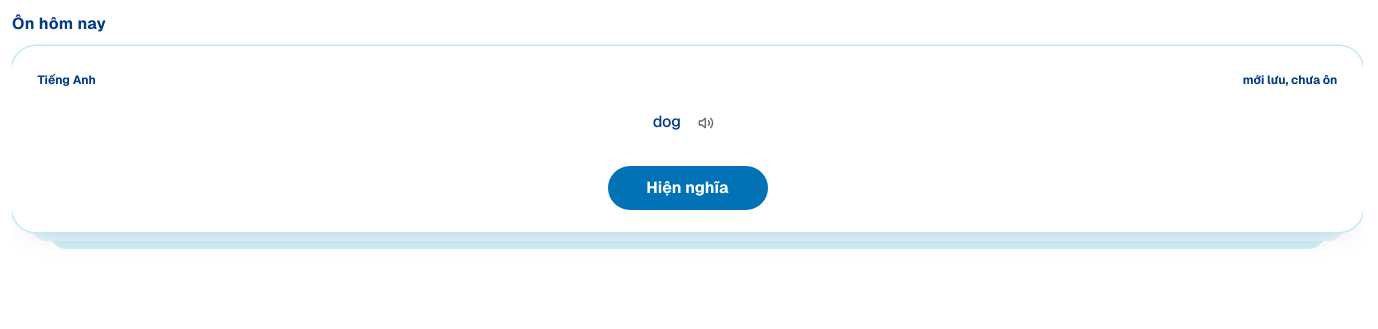
Scenario: HomeReviewDeck › grades once when the button is pressed twice in a row
Click the button "Hiện nghĩa": click(688, 188) left=608, top=166, right=768, bottom=210
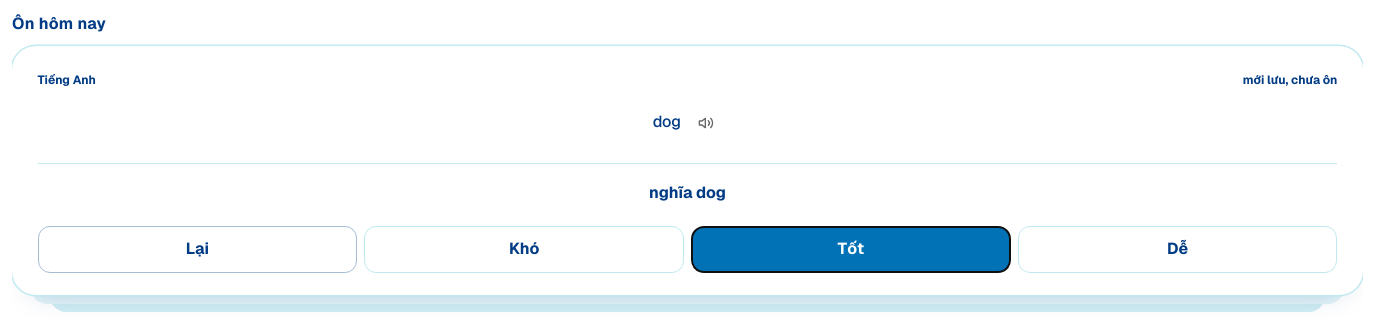
Double-click the button "Tốt": (851, 249) left=691, top=226, right=1011, bottom=273
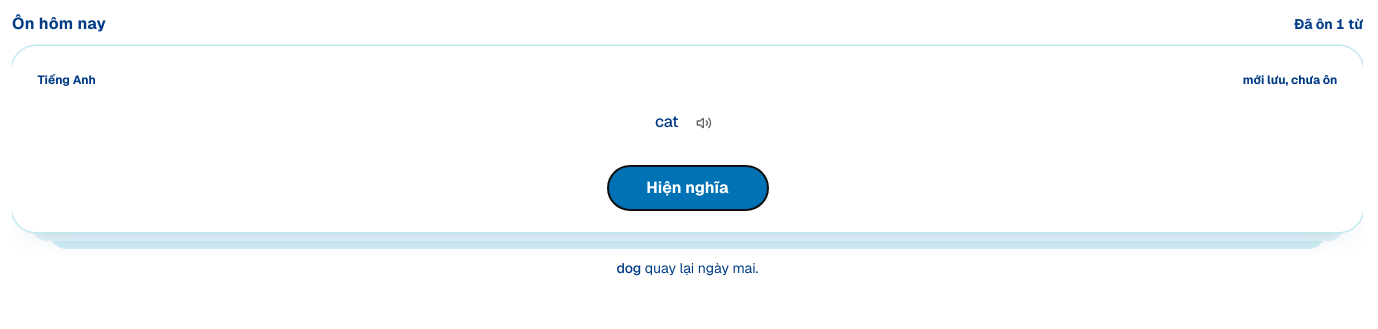
Check: the text "cat" is shown, box left=655, top=114, right=678, bottom=131
